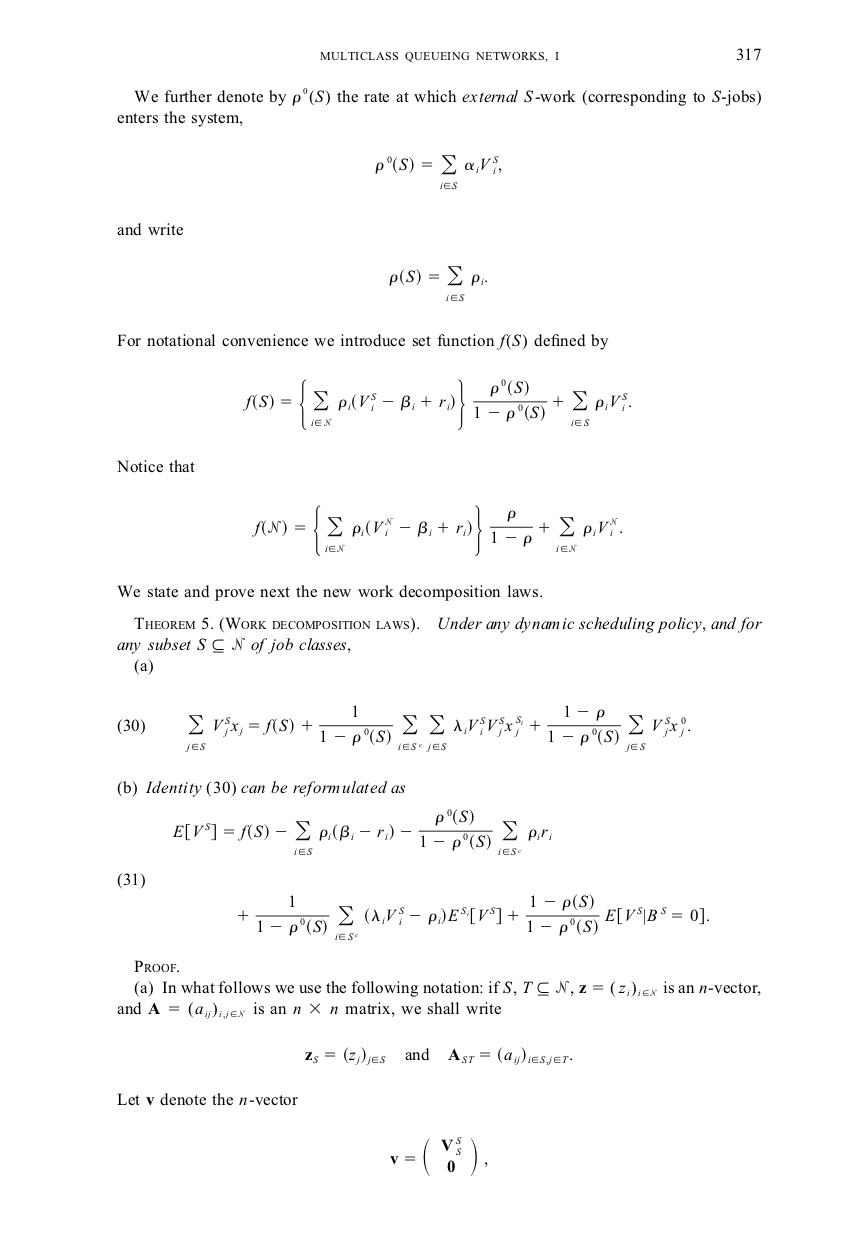formula: (117, 704, 689, 752), (238, 893, 708, 941), (243, 378, 630, 430), (252, 504, 621, 556), (172, 808, 551, 856), (305, 1046, 571, 1065), (375, 155, 501, 189), (390, 1136, 487, 1176), (389, 266, 486, 301)
